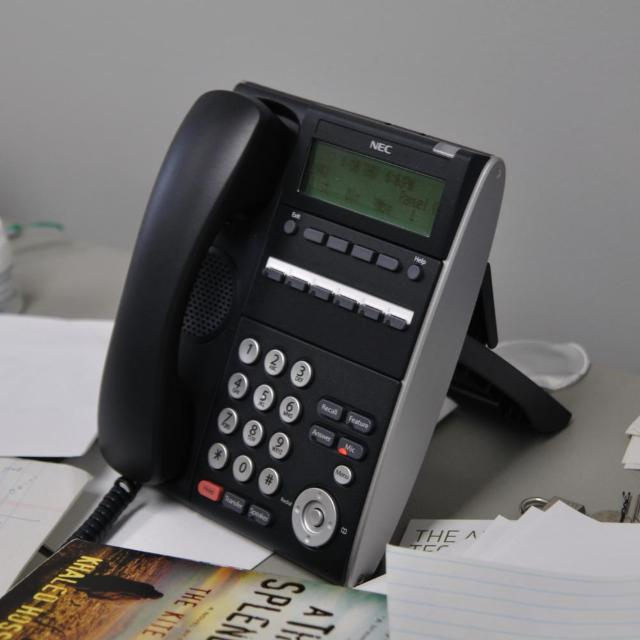Telephone-Set: (99, 79, 574, 587)
